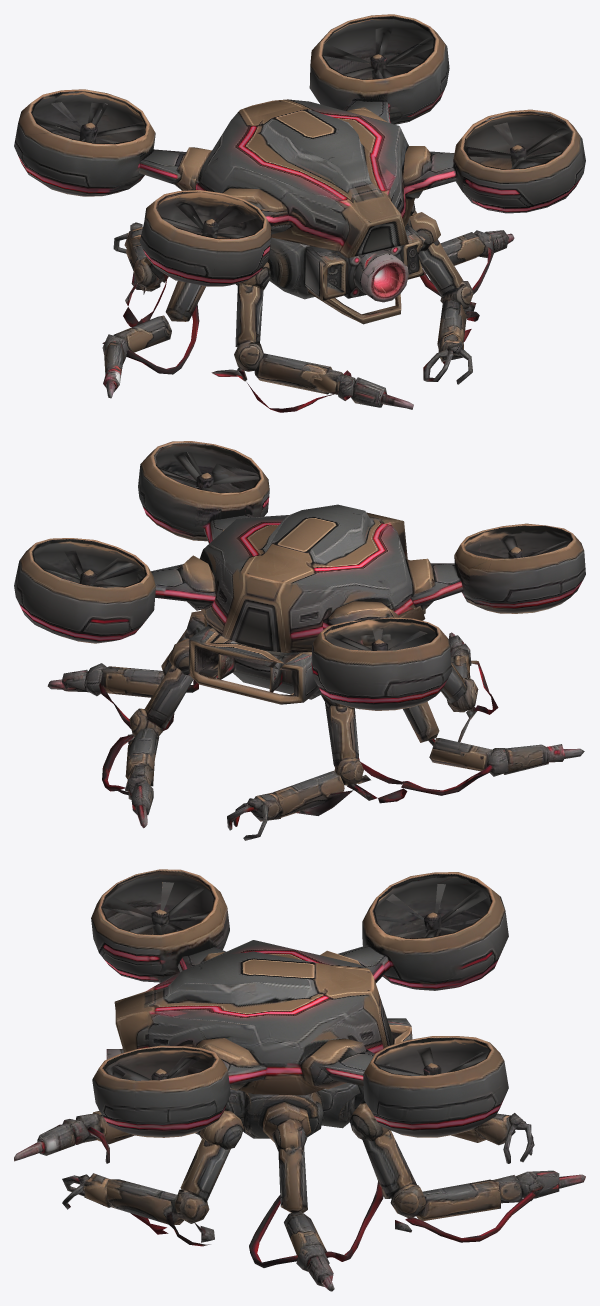
3 renders of one model, top to bottom at view 1: azimuth 30°, elevation 25°; view 2: azimuth 150°, elevation 25°; view 3: azimuth 270°, elevation 25°, orthographic. The views are drawn at different scales.
Parts seen in each view (by area): view 1: Mesh_0; view 2: Mesh_0; view 3: Mesh_0.
Part boxes in pixels (box(x1,y1,x2,y2)): Mesh_0: box(14, 14, 585, 412); Mesh_0: box(14, 441, 585, 840); Mesh_0: box(14, 869, 585, 1291).
Bounding box in the file's own units: 100 × 42.48 × 100.
Materials: 1 (1 with a texture image).
